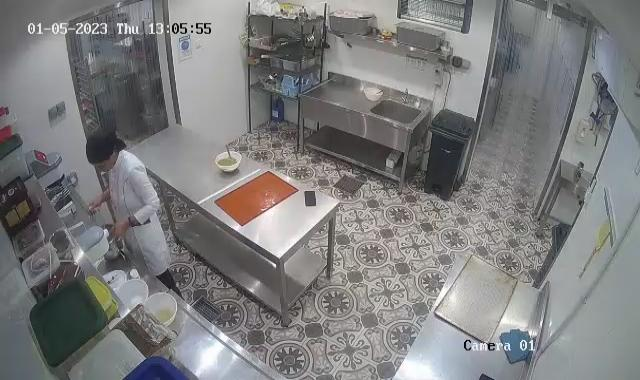no_hairnet: (84, 125, 129, 164)
